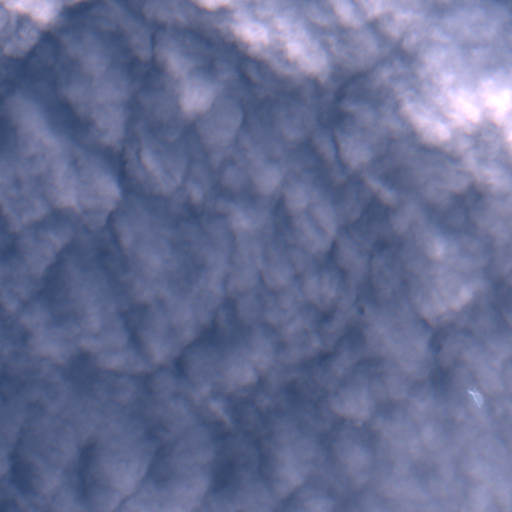Iceberg: (468, 389, 482, 407)
